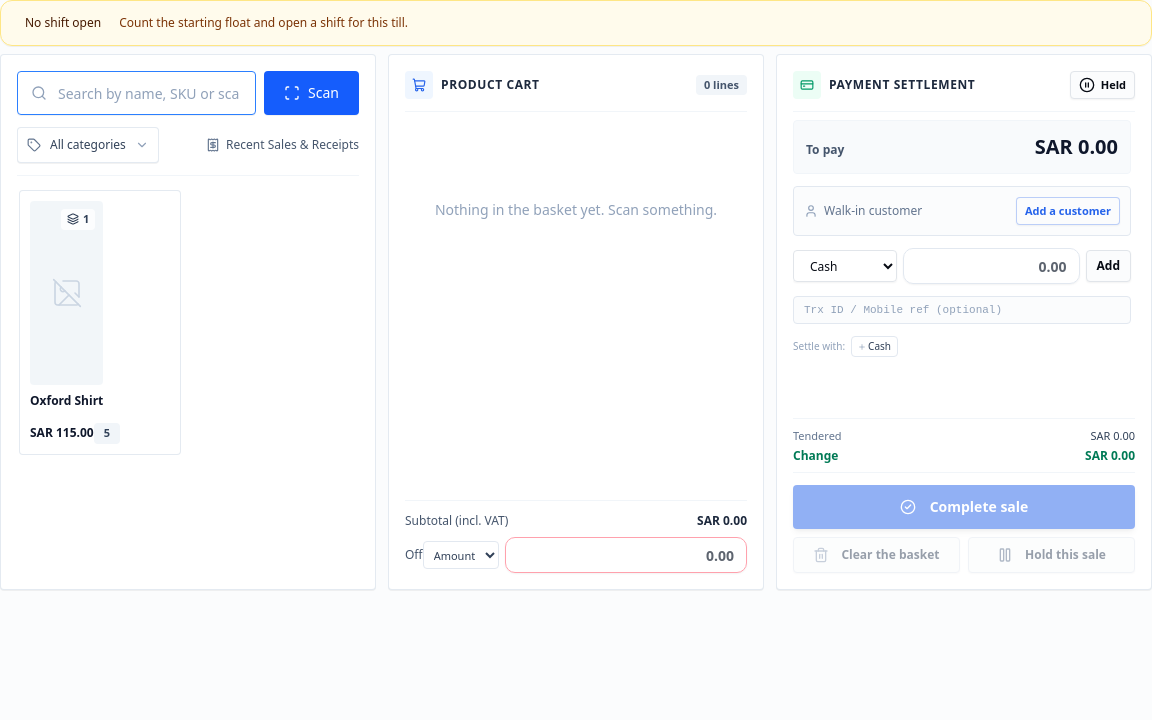
Test: the basket › sends a discount for the server to price, not a total the till worked out
Type "oxford" into the field named "Scan or search" at point(137, 93), box [17,71,256,115]
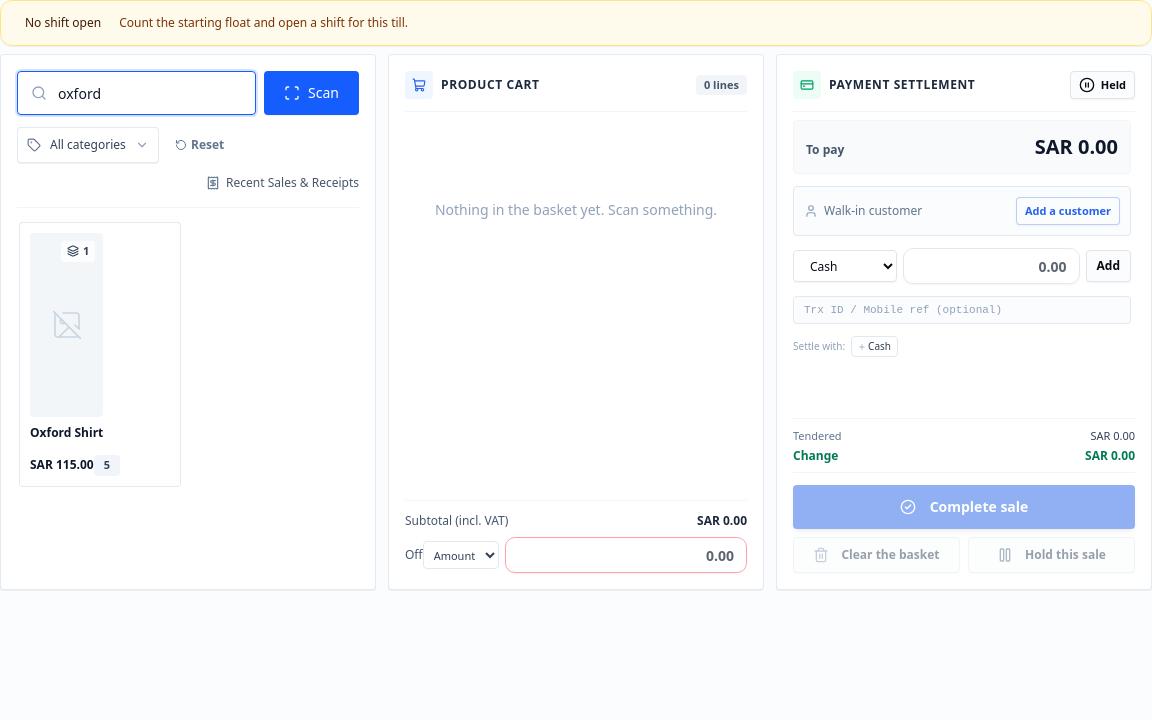
Click the button "1 Oxford Shirt SAR 115.00 5" at point(100, 354), box [19,222,181,486]
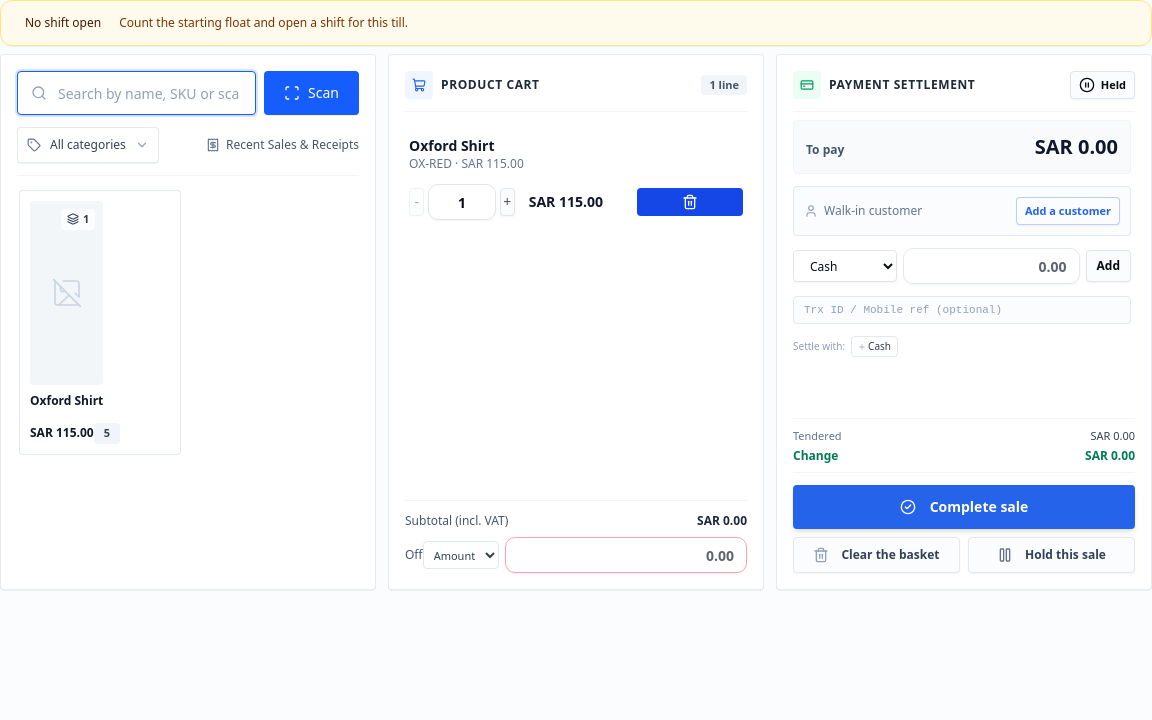
Type "15" into the field named "Off the whole basket" at point(626, 555), box [505,537,747,573]
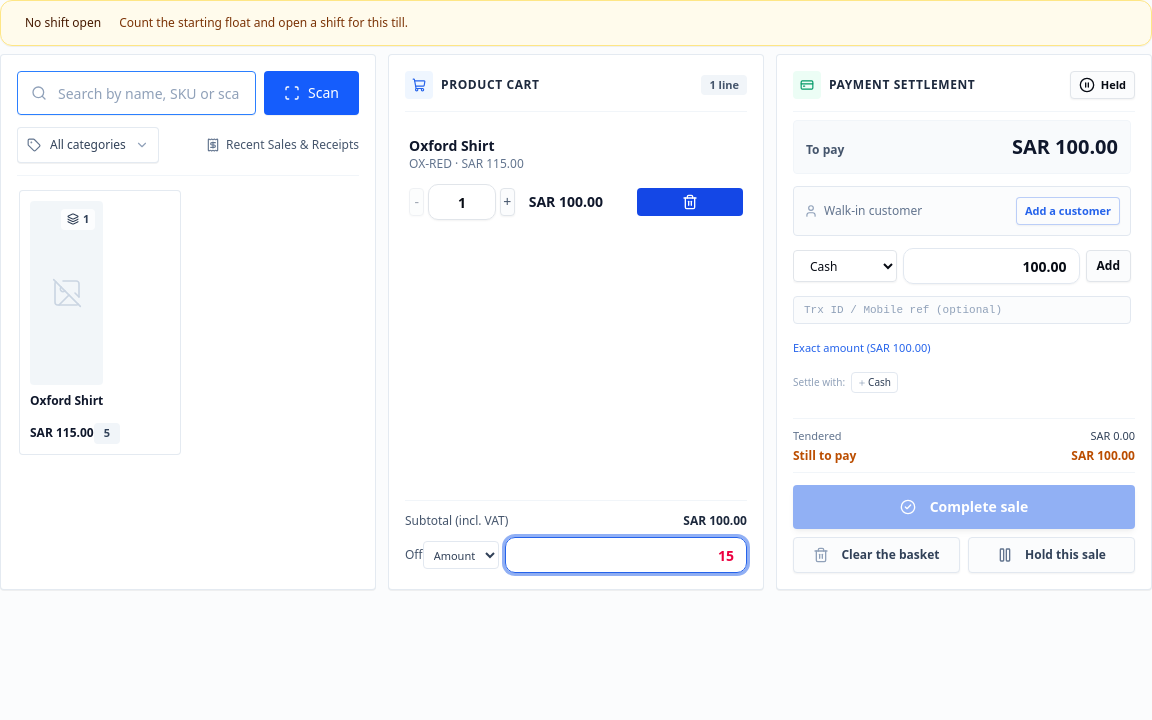
Now the text named "To pay" reads "SAR 100.00", box [1012,133,1118,160]
